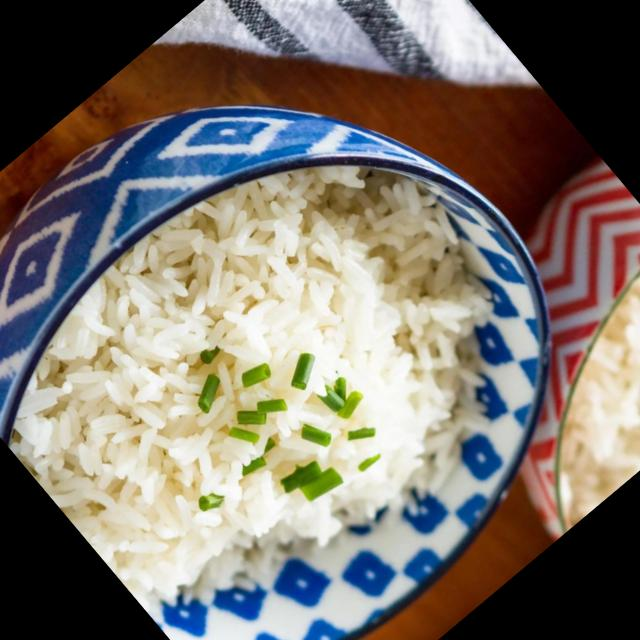rice: (5, 164, 481, 595)
